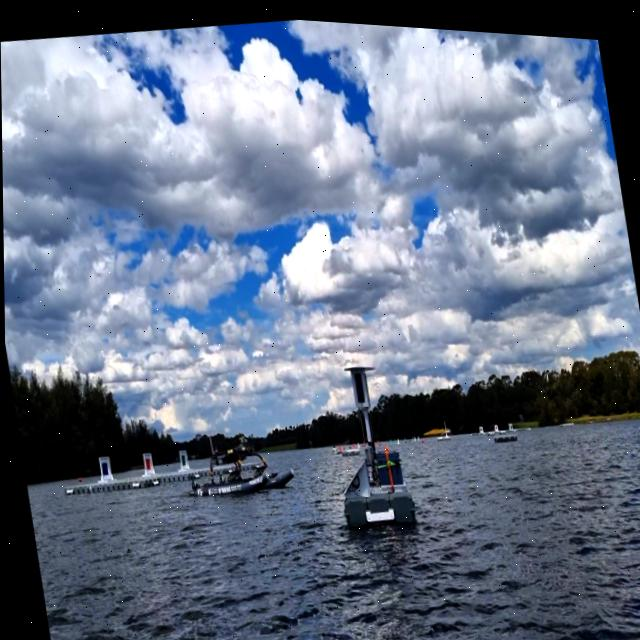led: (351, 364, 366, 401)
